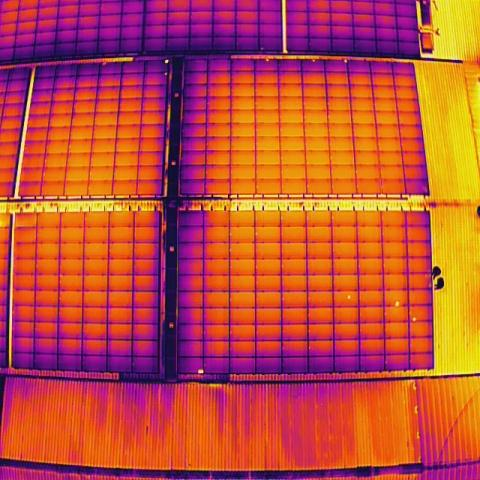fault: (411, 314, 419, 324), (393, 299, 401, 308), (196, 367, 204, 375), (346, 293, 352, 301), (164, 58, 170, 65), (311, 58, 316, 64), (343, 58, 348, 64), (259, 46, 264, 52), (101, 61, 107, 66), (164, 71, 168, 76), (265, 58, 270, 62)
